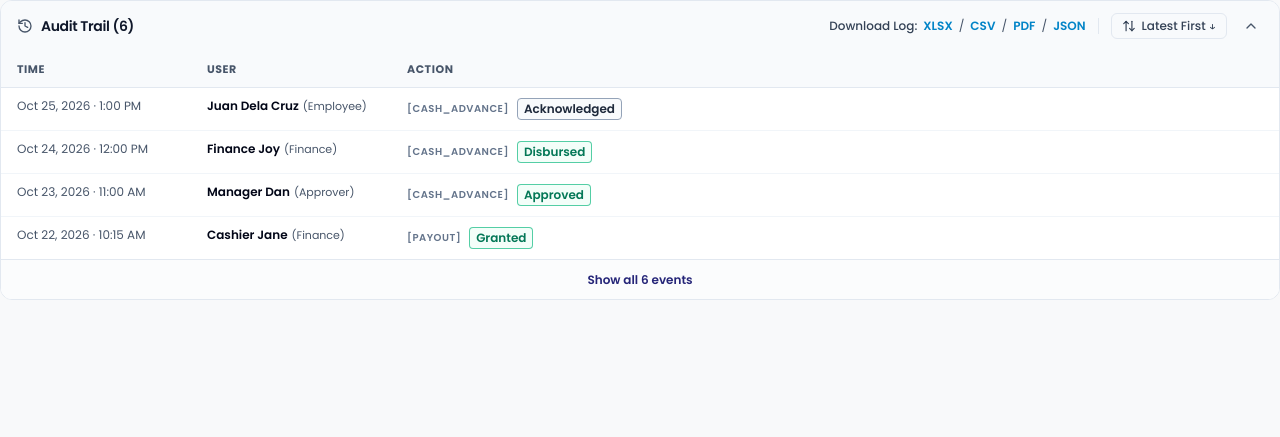
Test: BaseAuditTrail › caps display at 4 items when length > 4 and toggles Show All / Show Less
Expected: the number of rows with test id "audit-event-item" is 4, [1,88,1279,130]; [1,130,1279,174]; [1,174,1279,216]; [1,216,1279,259]
Note: Click Show all
Click the button with test id "audit-trail-expand-cap-btn" at (640, 280), box [587,272,693,288]
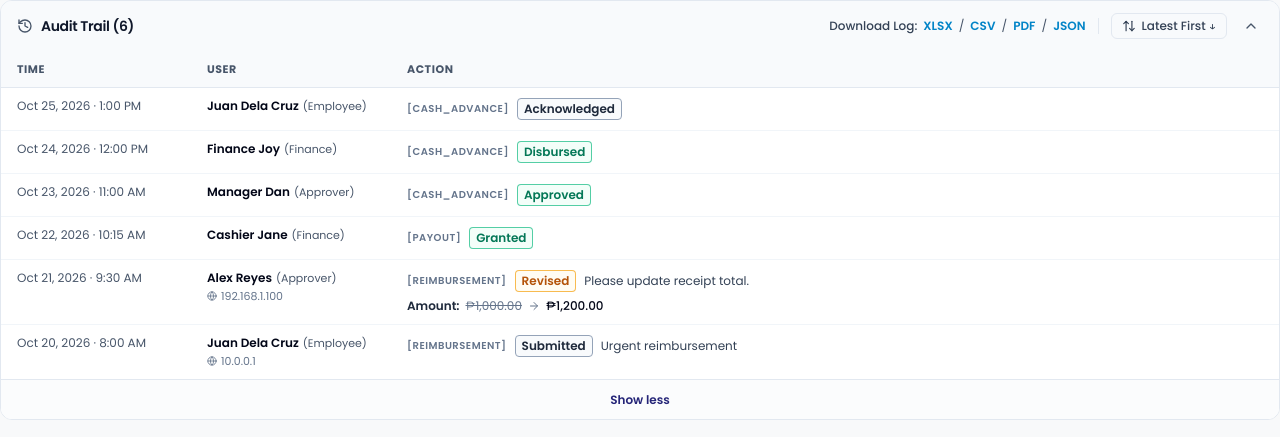
Result: the number of rows with test id "audit-event-item" is 6 at [1,88,1279,130]; [1,130,1279,174]; [1,174,1279,216]; [1,216,1279,260]; [1,260,1279,324]; [1,324,1279,379]
Result: the text "Show less" is shown at [610,392,670,408]
